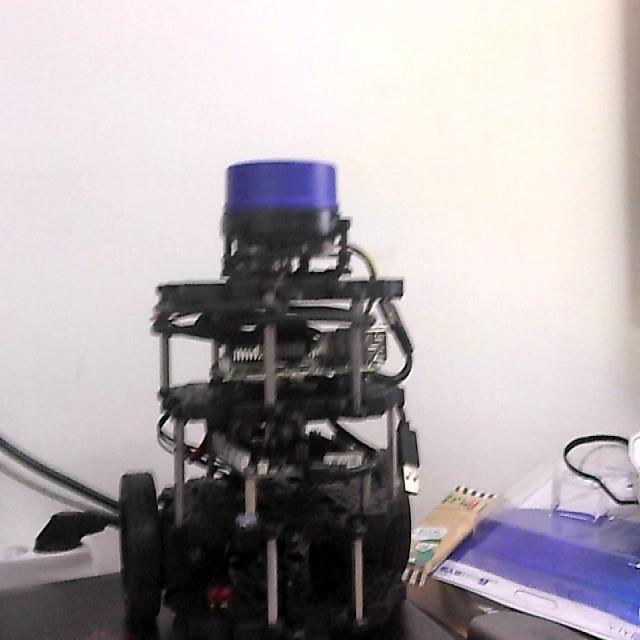turtle: (116, 158, 420, 640)
